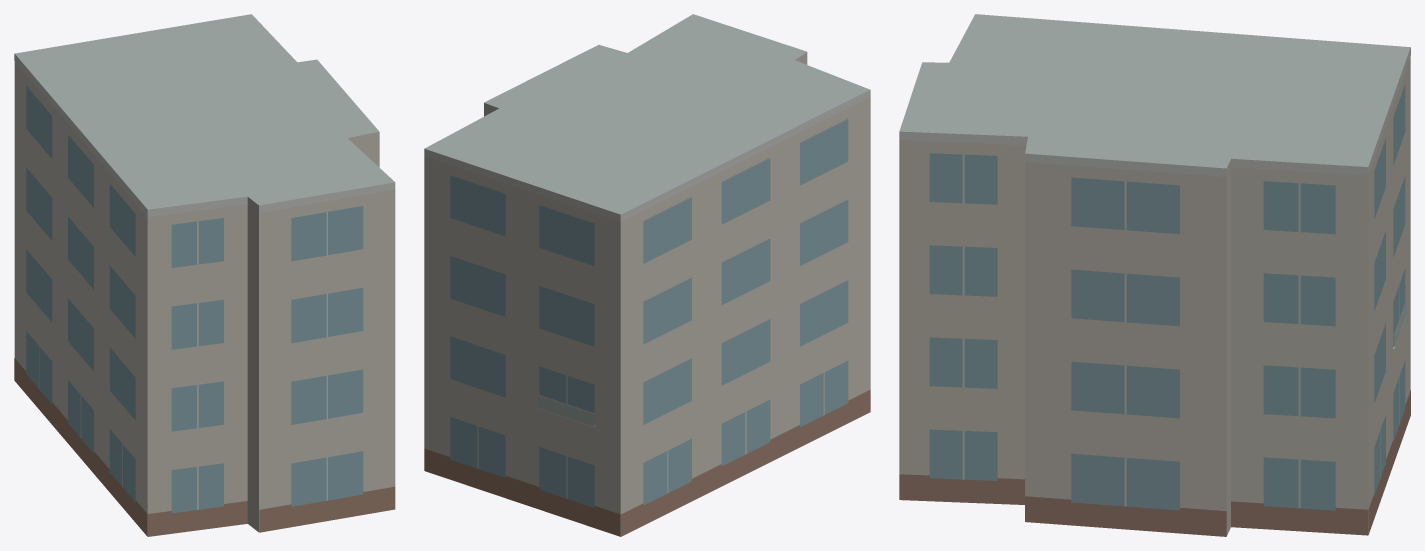
Rendered from survey-upis-32600811.glb.
3 renders of one model, left to right at view 1: azimuth 30°, elevation 25°; view 2: azimuth 150°, elevation 25°; view 3: azimuth 270°, elevation 25°, orthographic. The views are drawn at different scales.
Visible parts, largest first — view 1: survey-upis-32600811.tmp; view 2: survey-upis-32600811.tmp; view 3: survey-upis-32600811.tmp.
Boxes of the visible parts, left/top/right/bottom form: survey-upis-32600811.tmp: left=14, top=14, right=395, bottom=536; survey-upis-32600811.tmp: left=424, top=14, right=870, bottom=536; survey-upis-32600811.tmp: left=899, top=14, right=1410, bottom=536.
Bounding box in the file's own units: 9.63 × 10.7 × 13.47.
